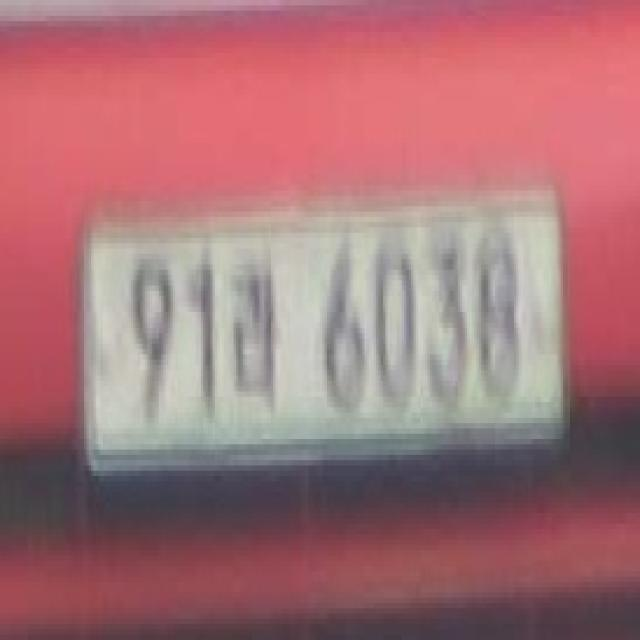plat: (77, 183, 572, 484)
